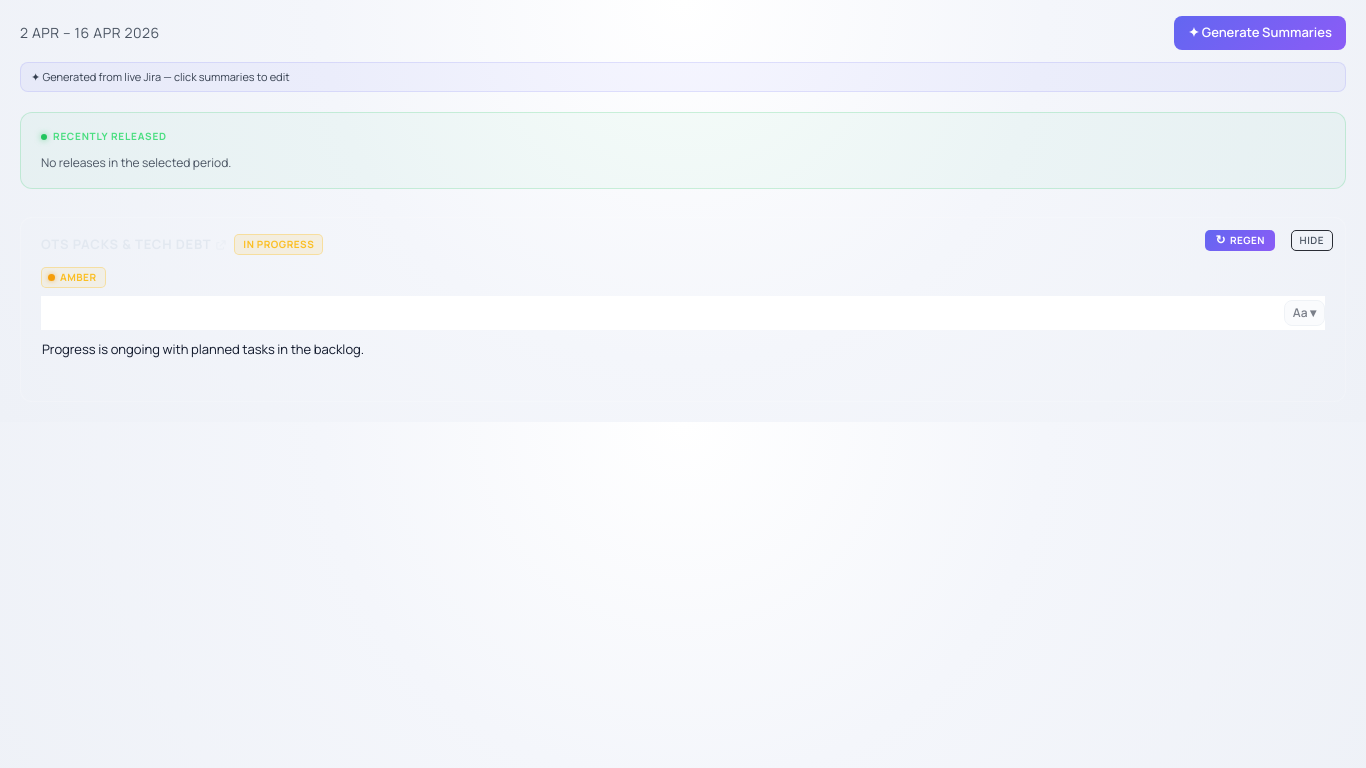
Test: WeeklyUpdatePanel generate and autosave › shows a confirm modal before overwriting manual edits
This screenshot has width=1366, height=768.
# Make a manual edit to mark the panel as dirty
Clear the text box labelled "Progress is ongoing with planned tasks in the backlog." at (203, 349), box left=42, top=340, right=364, bottom=358
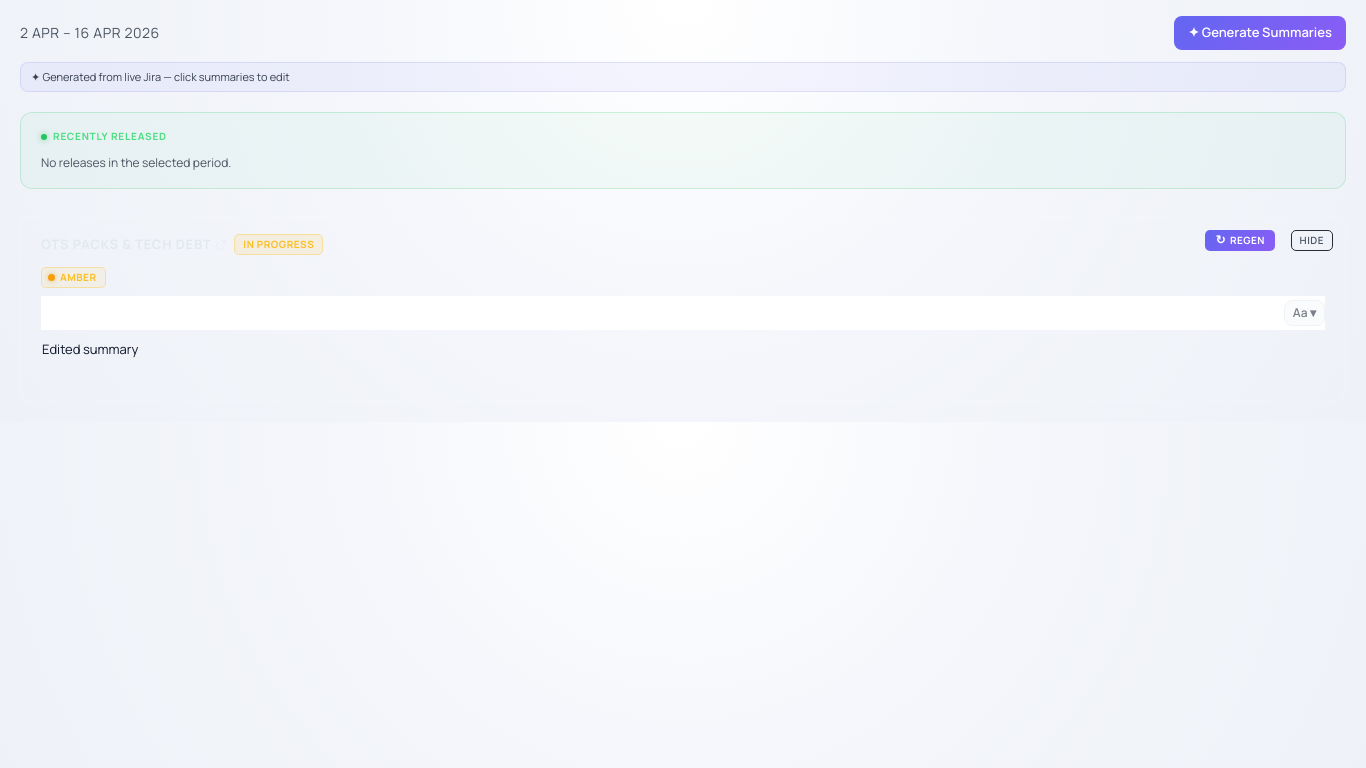
Click the button "✦ Generate Summaries" at (1260, 33), box left=1174, top=16, right=1346, bottom=50
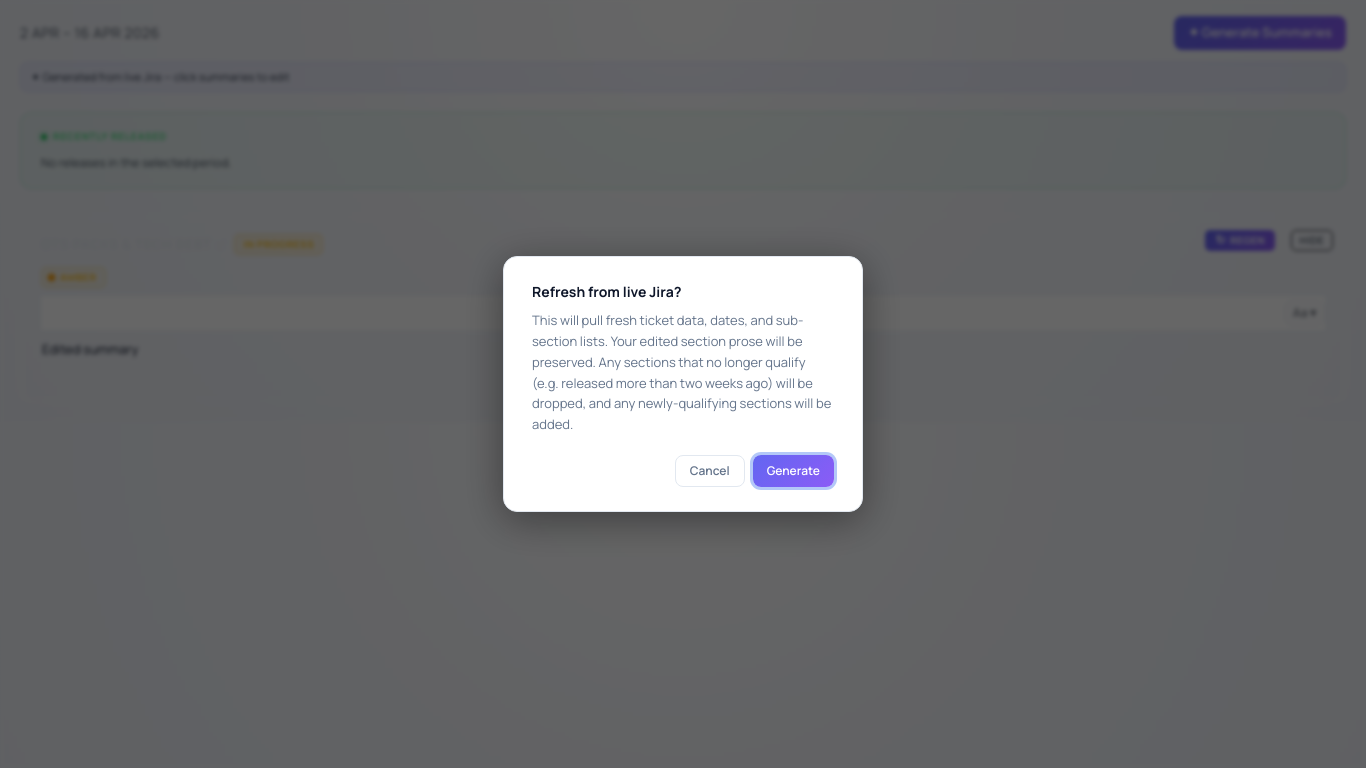
Expected: the heading "Refresh from live Jira?" is shown, left=532, top=282, right=682, bottom=301
